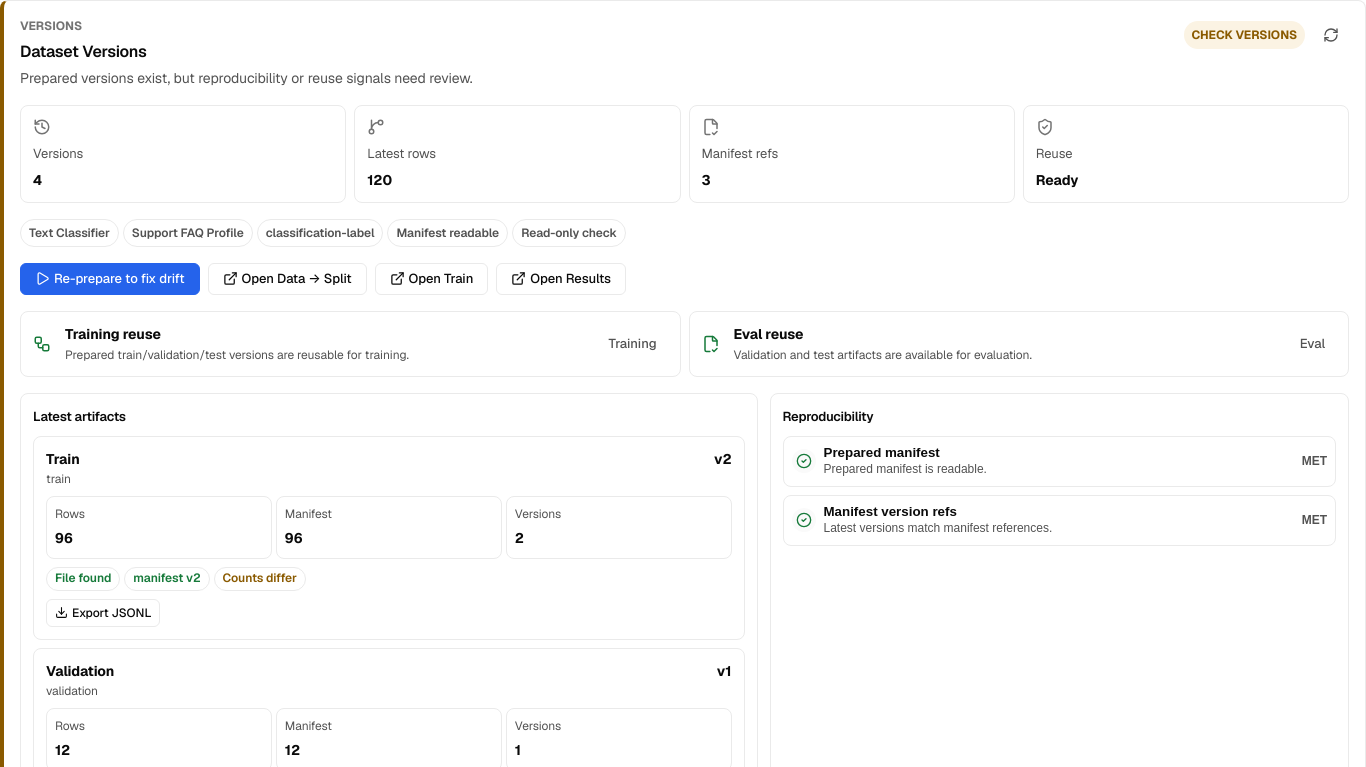
Scenario: DataStudioDatasetVersionsPanel › POSTs to /dataset/split and refreshes on re-prepare success
The width and height of the screenshot is (1366, 767).
Click the button with test id "data-studio-versions-re-prepare": (110, 279) [20,263,200,295]
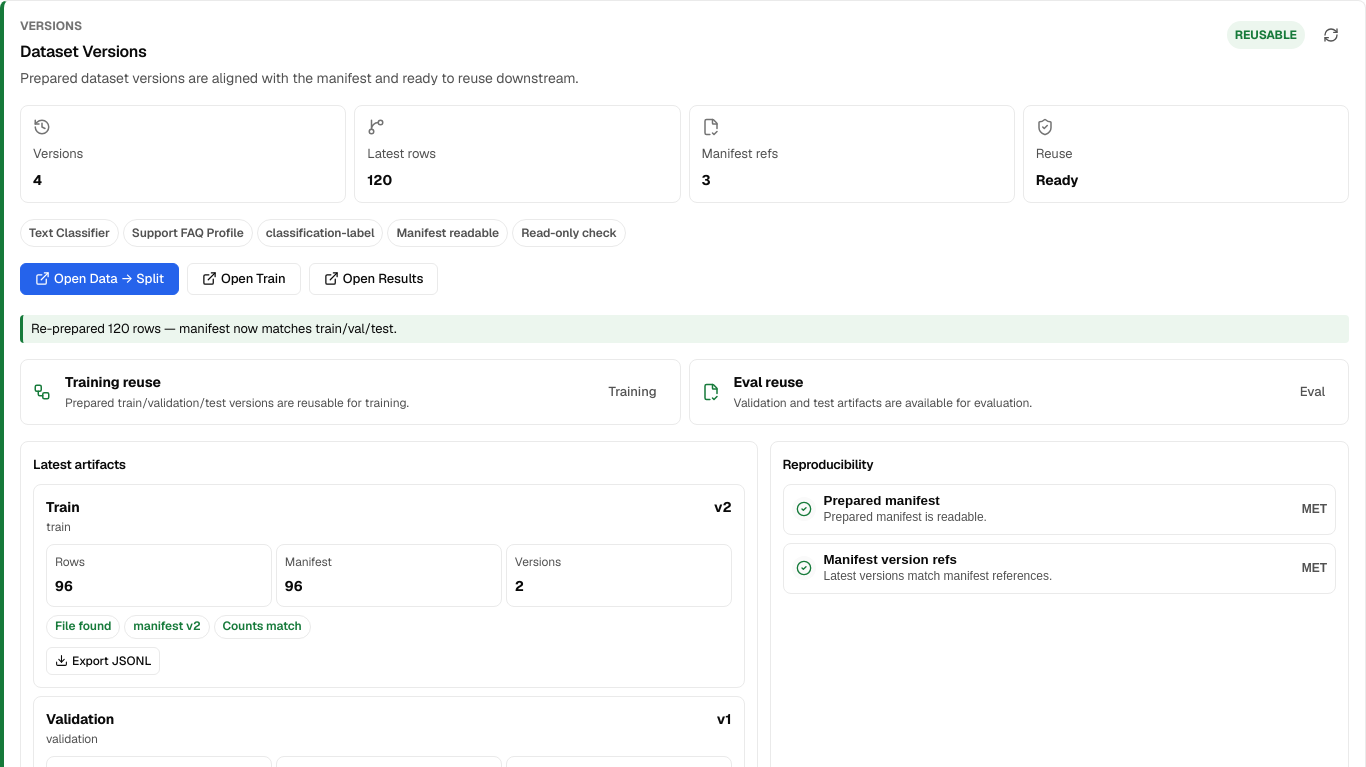
Result: the text with test id "data-studio-versions-run-flash" shows "Re-prepared 120 rows" at [31,320,396,337]
